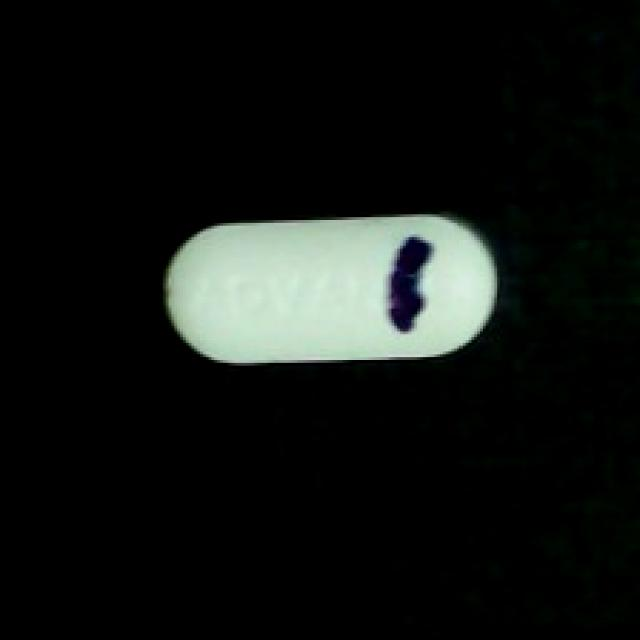defected: (160, 206, 506, 377)
